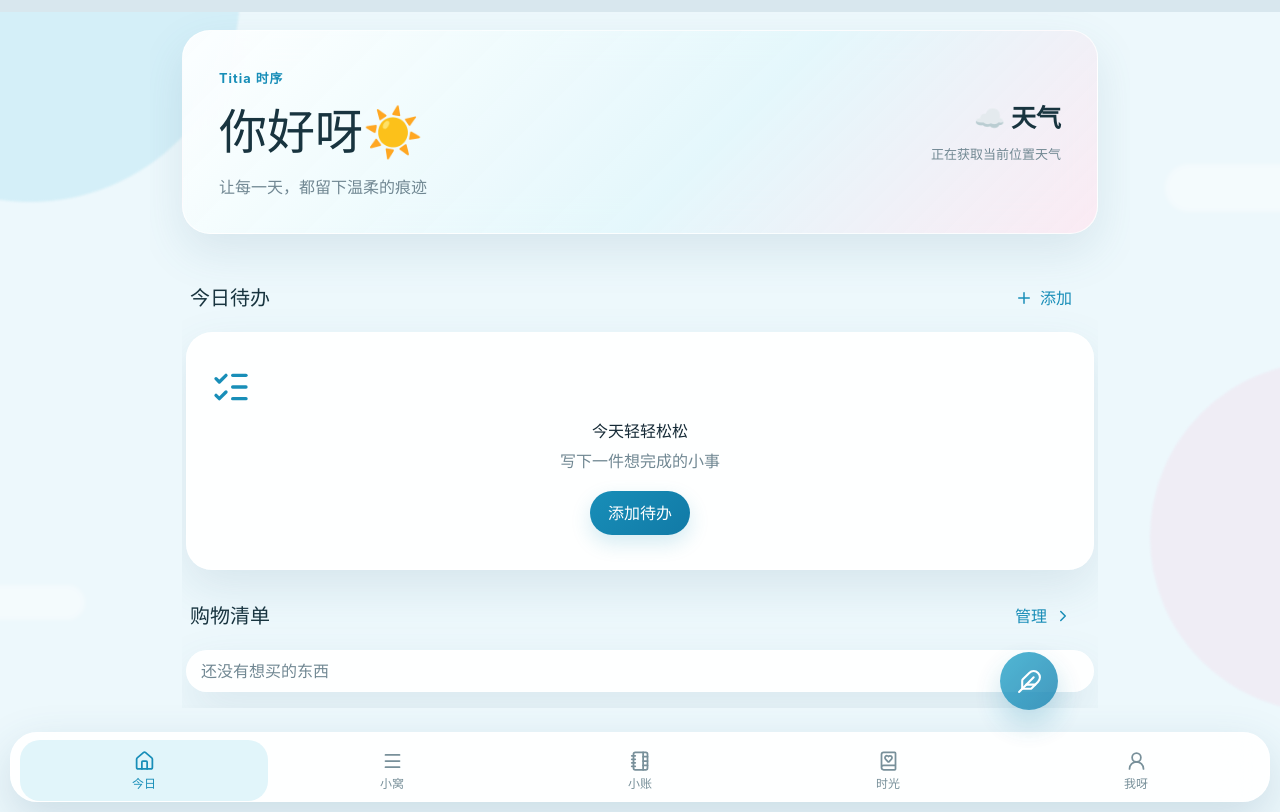
Scenario: TitiaApp › uses dedicated ledger and time icons and keeps AI recognition separate
Step 1. Click the button "小账" → (640, 770), box [516,740,764,801]
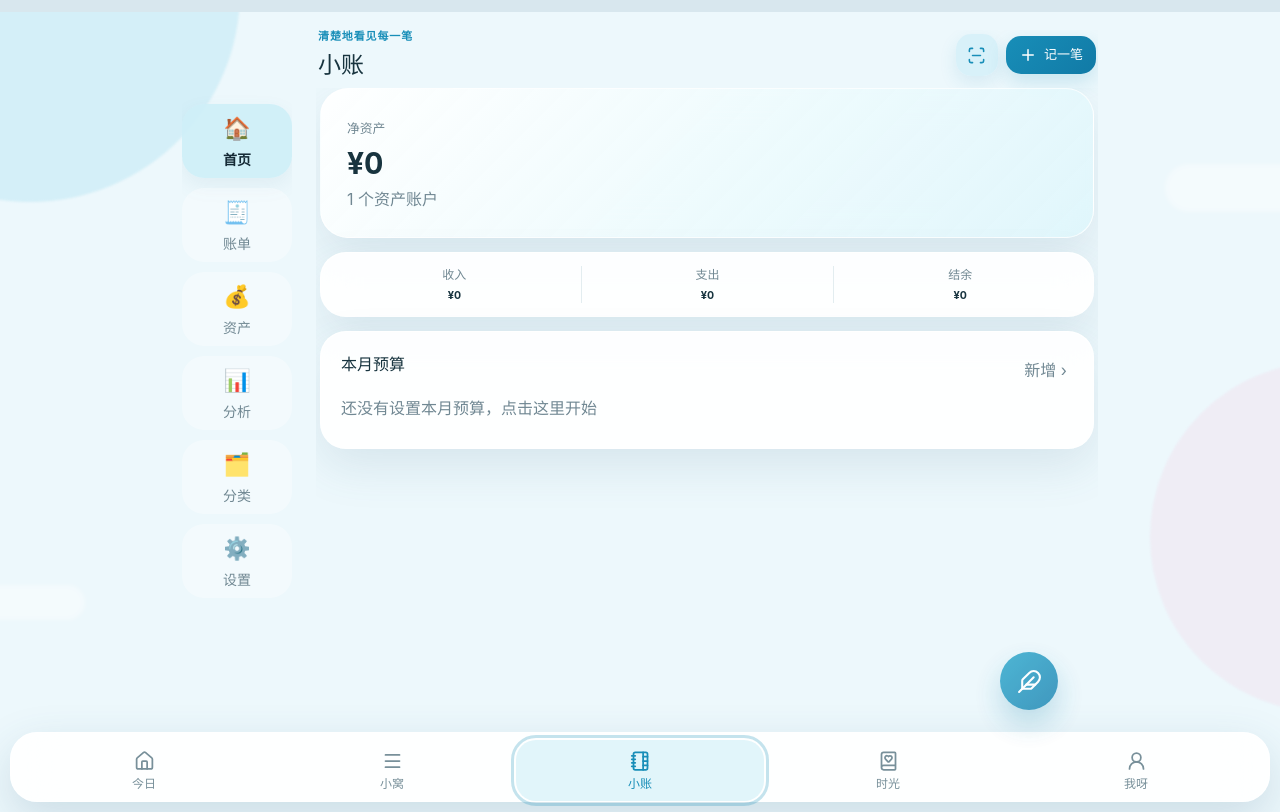
expect the button "🧾 账单" is shown: met, box [182,188,292,262]
expect the button "⚙️ 设置" is shown: met, box [182,524,292,598]
expect the button named "AI识别剪贴板" is shown: met, box [956,34,998,76]
Step 2. Click the button "时光" → (888, 770), box [764,740,1012,801]
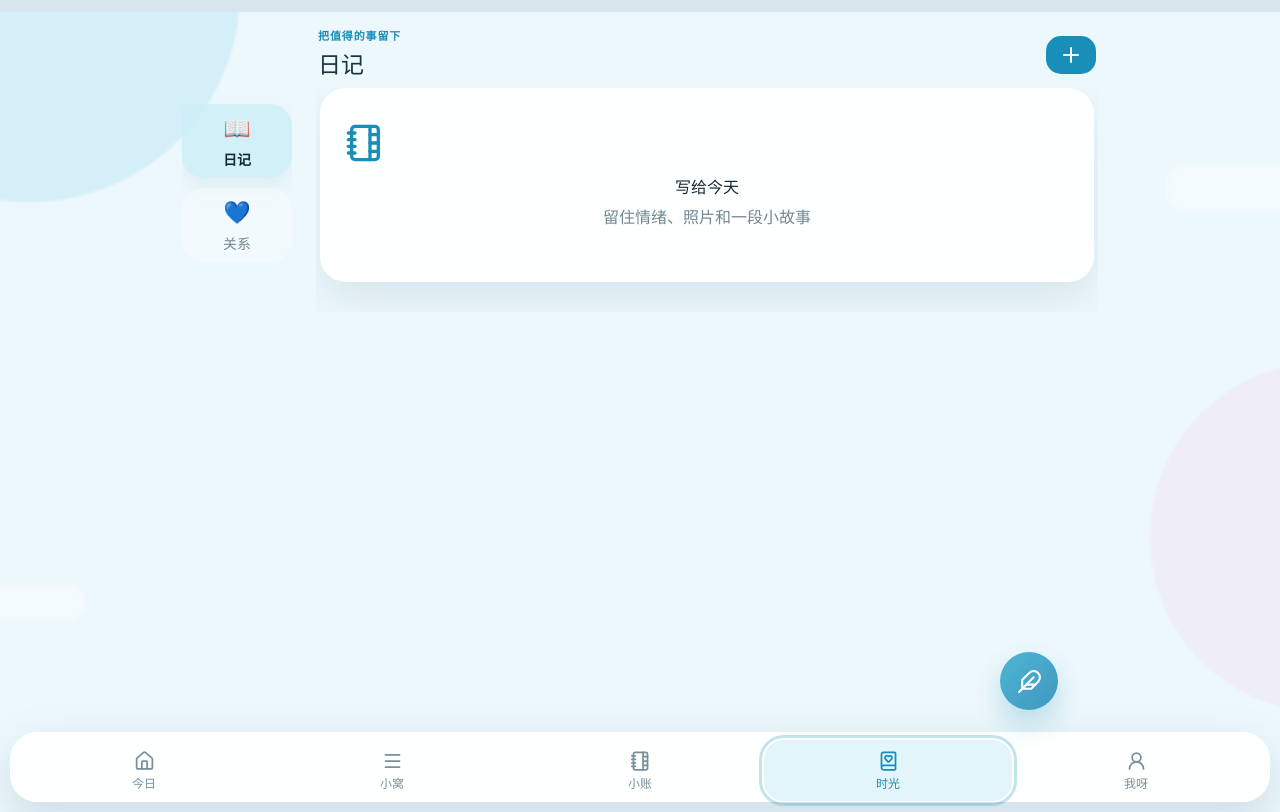
expect the button "📖 日记" is shown: met, box [182,104,292,178]
expect the button "💙 关系" is shown: met, box [182,188,292,262]
